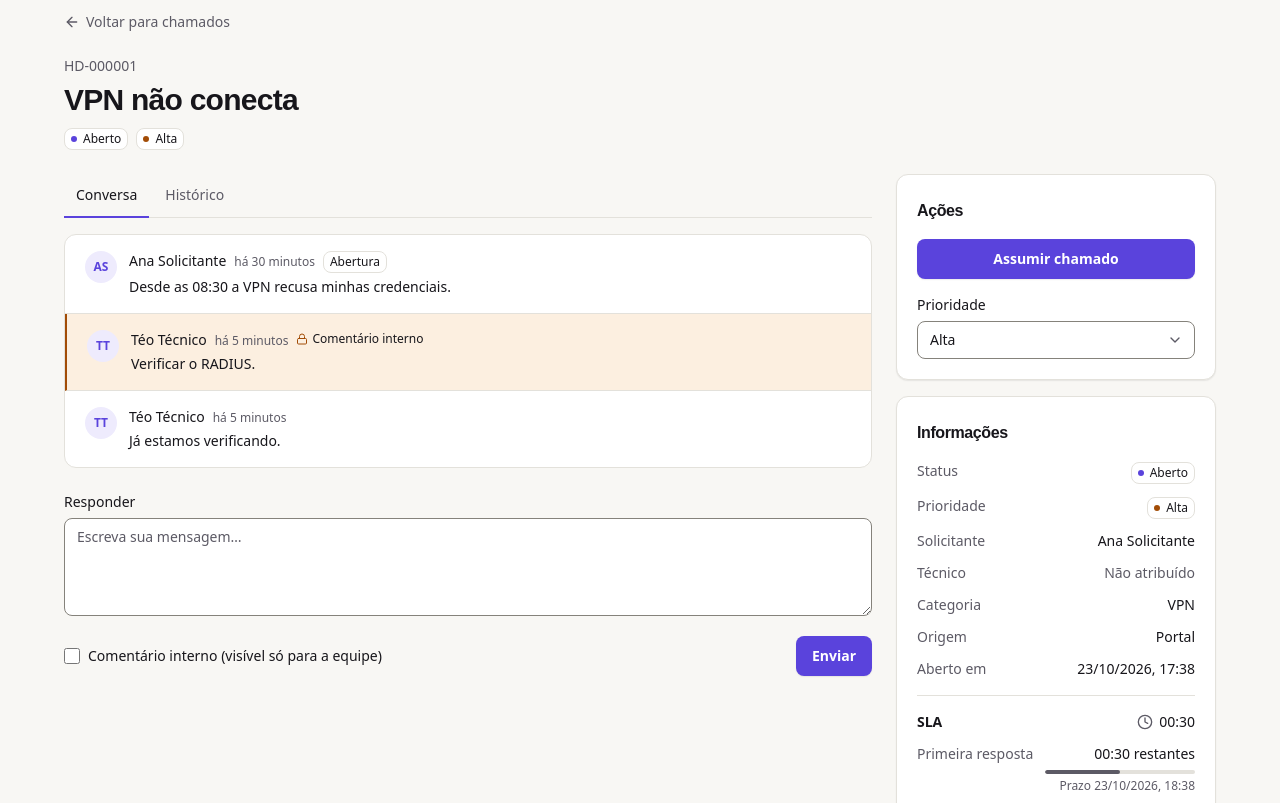
TicketDetailsPage › envia comentário interno e avisa com toast
This screenshot has width=1280, height=803.
Type "Checar logs do firewall." into the text box labelled "Responder" at (468, 567), box [64,518,872,616]
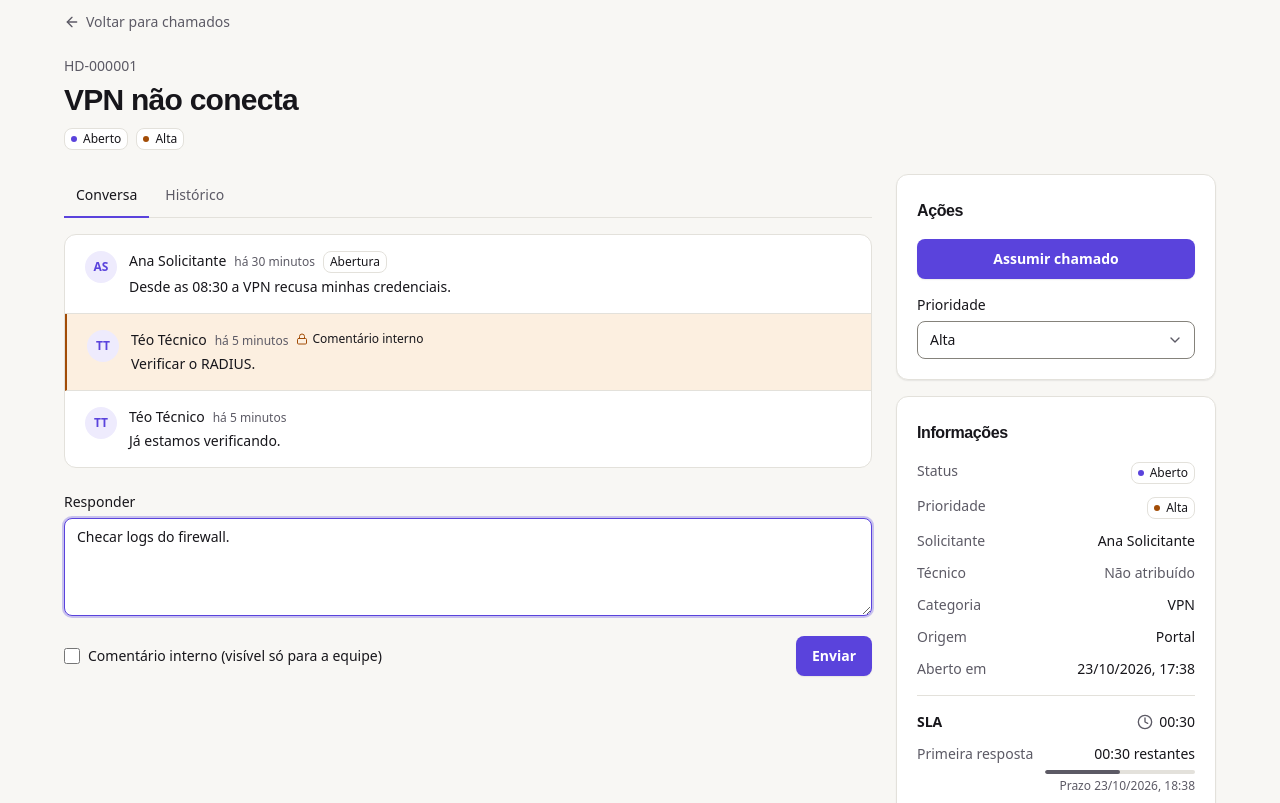
Click the checkbox labelled "Comentário interno (visível só para a equipe)" at (72, 656), box [64,648,80,664]
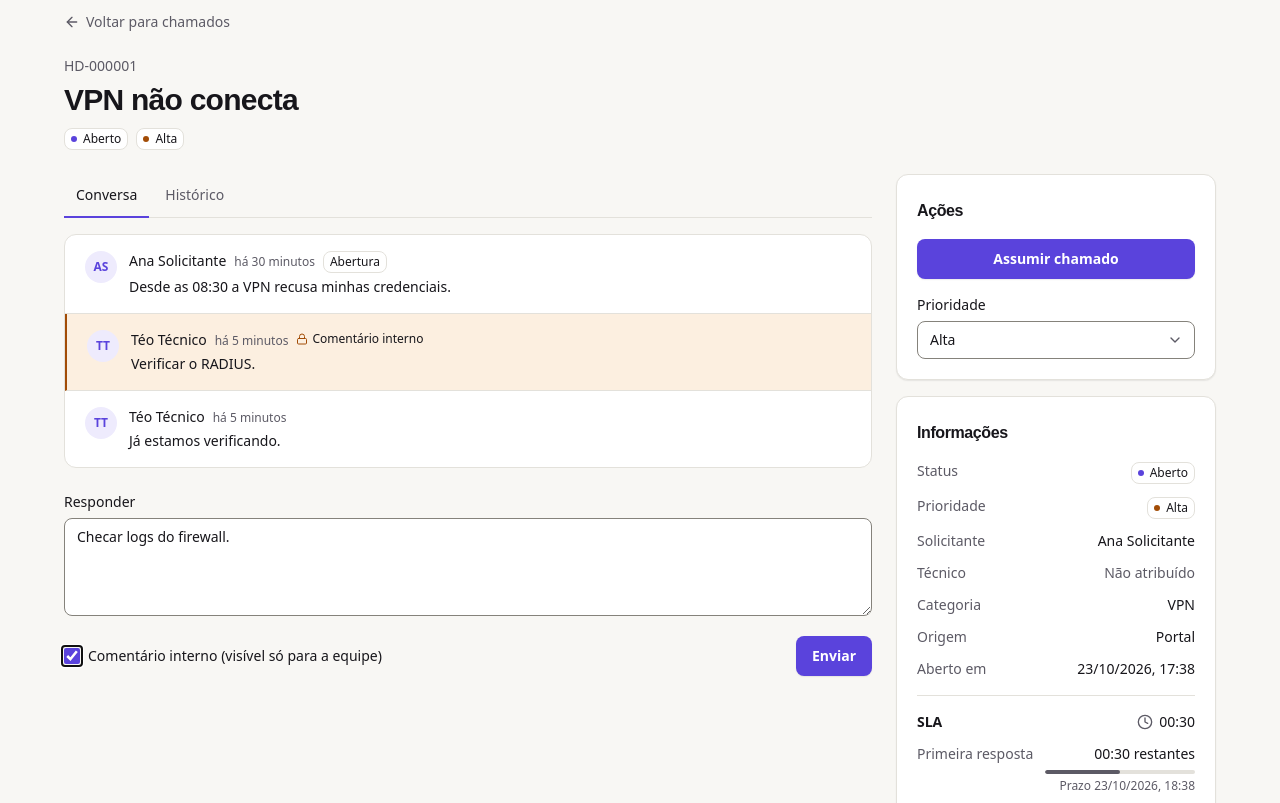
Click the button "Enviar" at (834, 656), box [796,636,872,676]
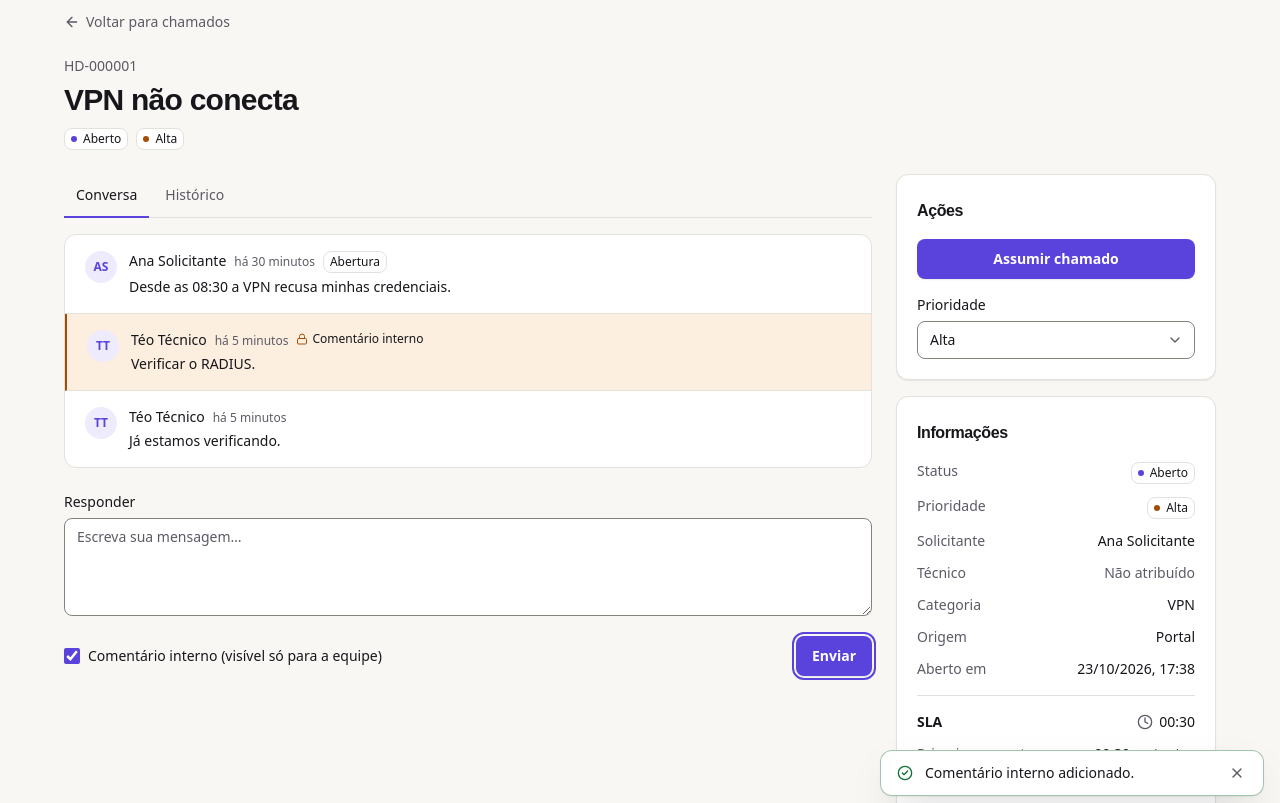
expect the text "Comentário interno adicionado." is shown: met, box [925,763,1134,782]
expect the text box labelled "Responder" is empty: met, box [64,518,872,616]
